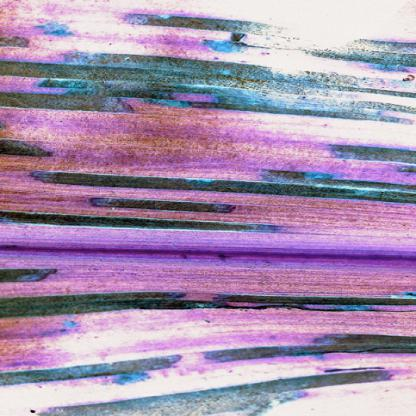corn gray leaf spot: (1, 1, 415, 414)
